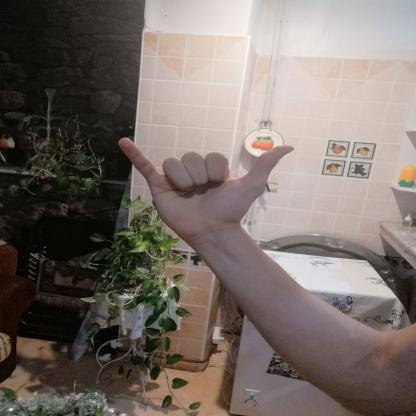YA: (106, 124, 304, 249)
